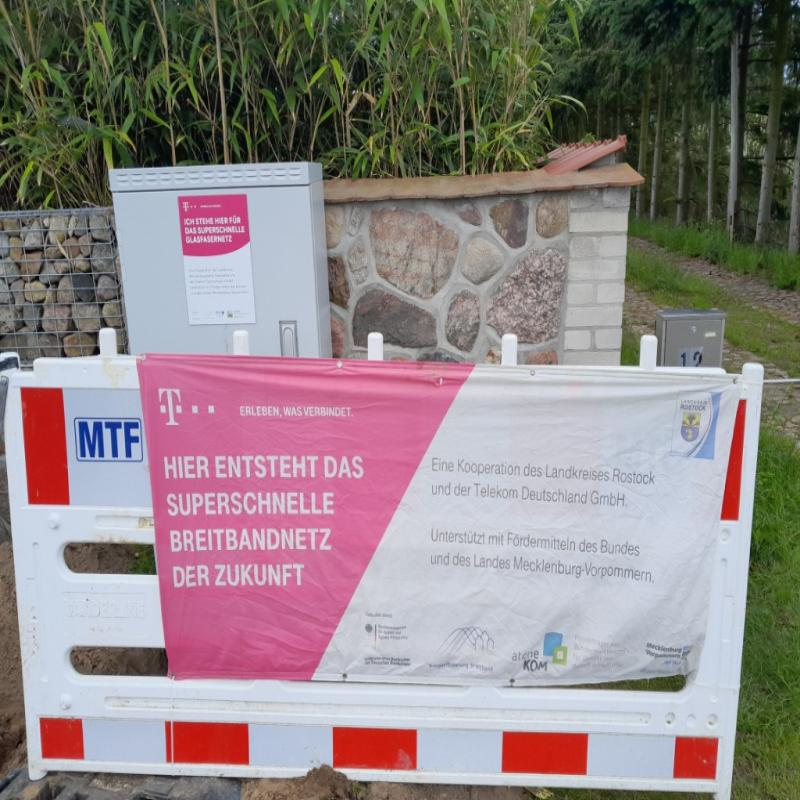Banner: (140, 356, 738, 674)
NT-Gehause: (111, 161, 332, 357)
Steaker: (178, 192, 255, 325)
